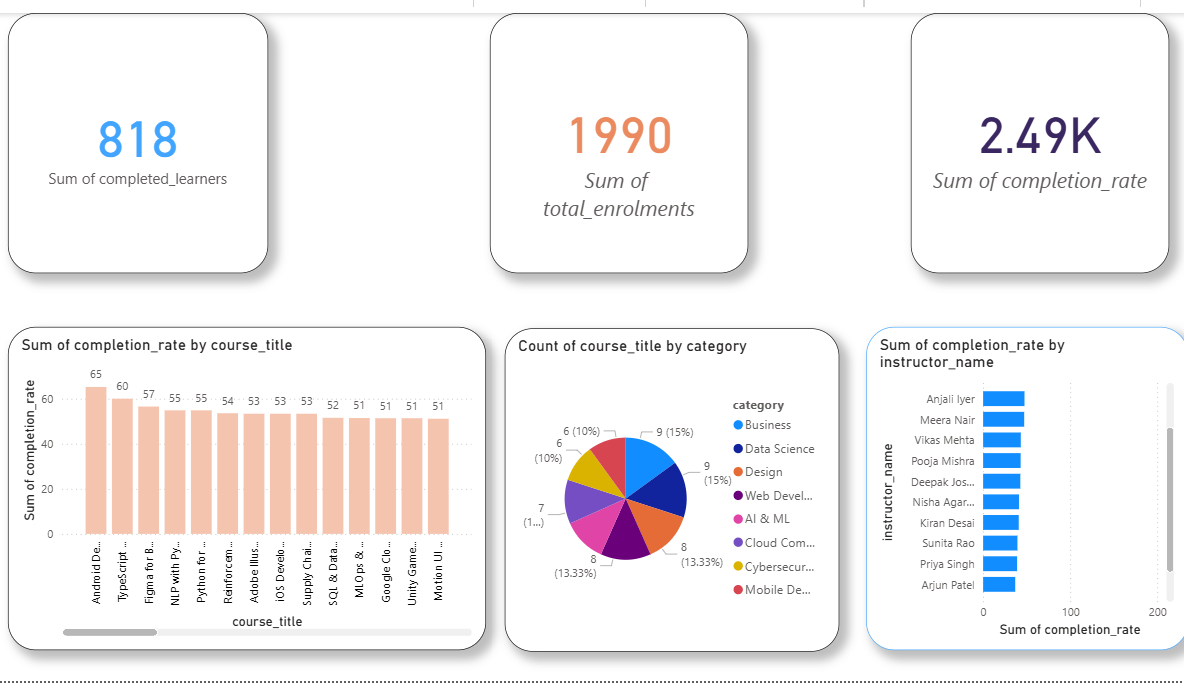

This screenshot's page, from the dashboard's own definition file:
{"tool":"powerbi","page":{"name":"Page 1","canvas":[1280,720],"ordinal":0},"visuals":[{"type":"card","title":"Complete Learners","fields":{"Values":["Sum(gold_course_completion.completed_learners)"]},"box":[10,0,280,280],"z":0},{"type":"card","fields":{"Values":["Sum(gold_course_completion.total_enrolments)"]},"box":[528.3,0,278.3,280],"z":1},{"type":"card","fields":{"Values":["Sum(gold_course_completion.completion_rate)"]},"box":[981.7,0,278.3,280],"z":2},{"type":"columnChart","fields":{"Category":["gold_course_completion.course_title"],"Y":["Sum(gold_course_completion.completion_rate)"]},"box":[10,338.3,515,348.3],"z":3},{"type":"clusteredBarChart","fields":{"Category":["gold_instructor_performance.instructor_name"],"Y":["Sum(gold_instructor_performance.completion_rate)"]},"box":[933.3,338.3,346.7,348.3],"z":4},{"type":"pieChart","fields":{"Y":["CountNonNull(gold_course_completion.course_title)"],"Category":["gold_course_completion.category"]},"box":[545,340,360,348.3],"z":5}]}

Visuals, with their boxes in screenshot pixels (x1, y1, x2, y2):
"Complete Learners" card: bbox(9, 18, 265, 274)
card - Sum(gold_course_completion.total_enrolments): bbox(482, 18, 736, 274)
card - Sum(gold_course_completion.completion_rate): bbox(896, 18, 1149, 274)
columnChart - gold_course_completion.course_title x Sum(gold_course_completion.completion_rate): bbox(9, 327, 479, 645)
clusteredBarChart - gold_instructor_performance.instructor_name x Sum(gold_instructor_performance.completion_rate): bbox(851, 327, 1168, 645)
pieChart - CountNonNull(gold_course_completion.course_title) x gold_course_completion.category: bbox(497, 329, 826, 646)
